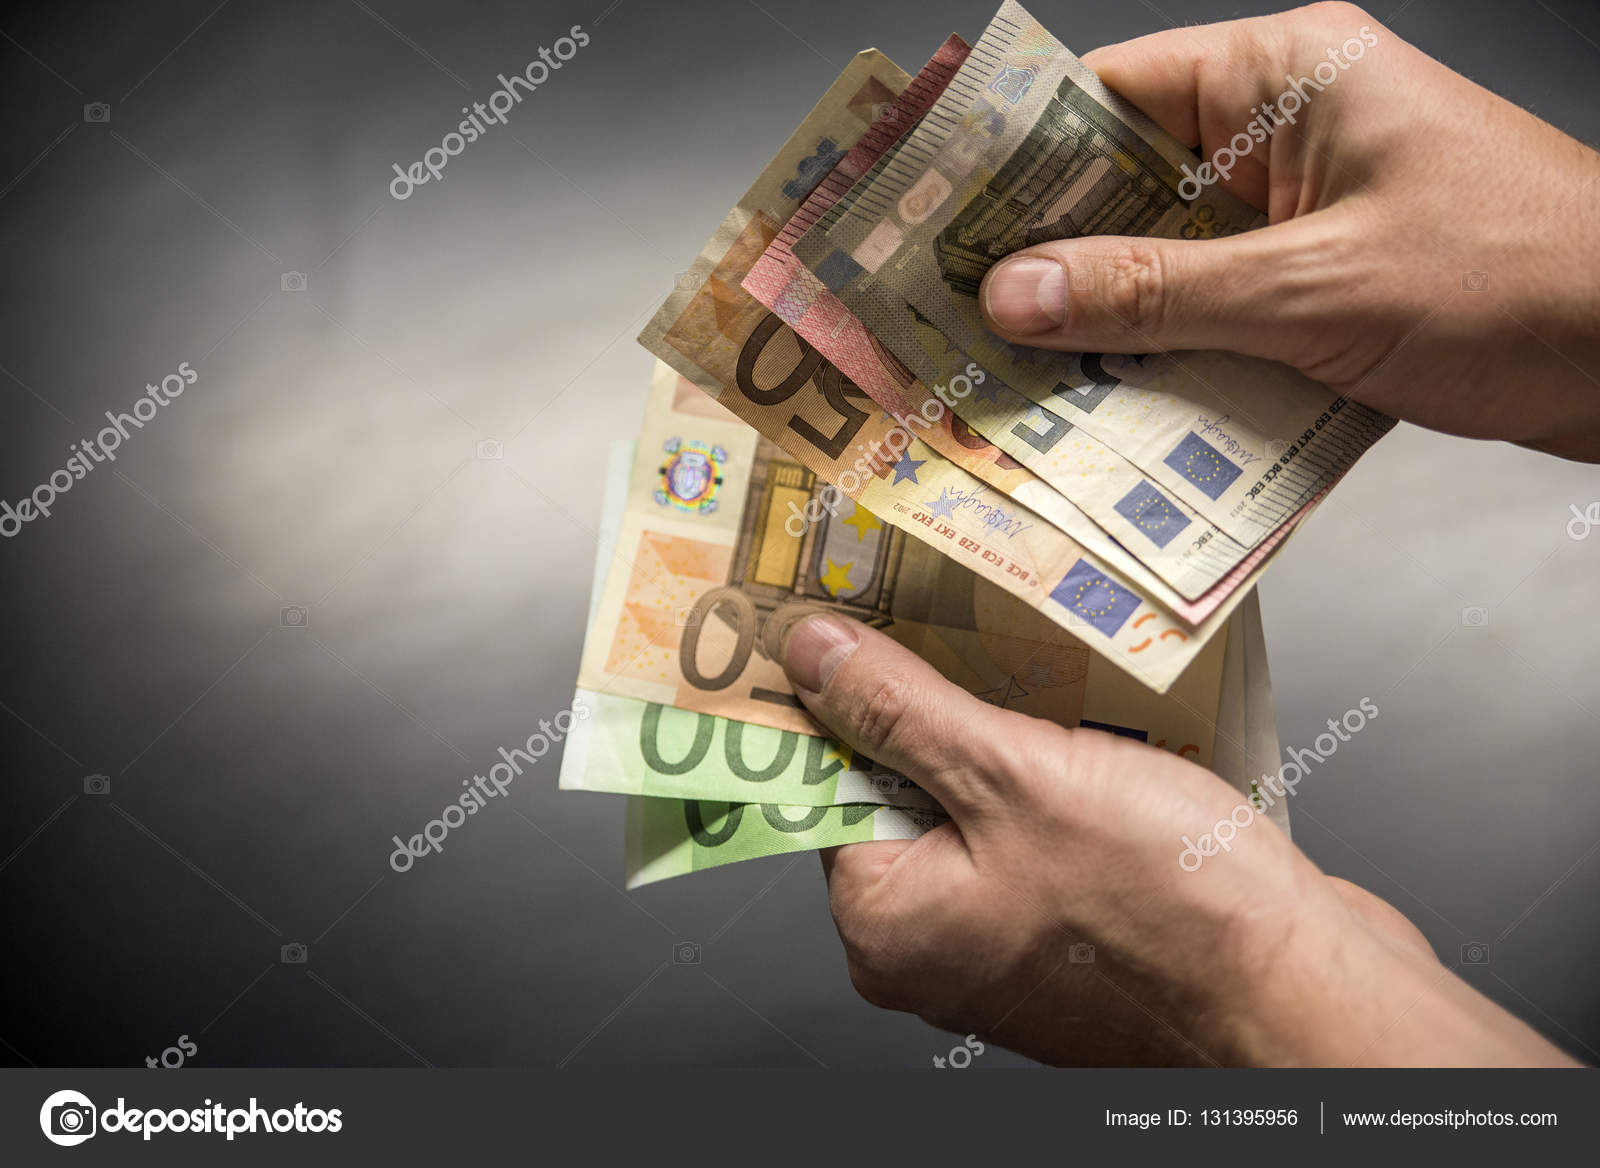billete: (636, 1, 1406, 697), (555, 360, 1302, 890)
